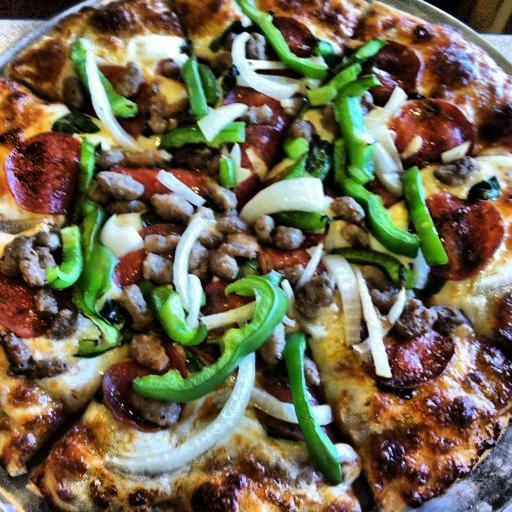pizza: (9, 6, 512, 510)
